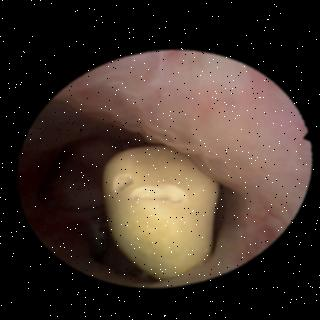stone: (101, 144, 219, 277)
tissue: (24, 51, 307, 281)
